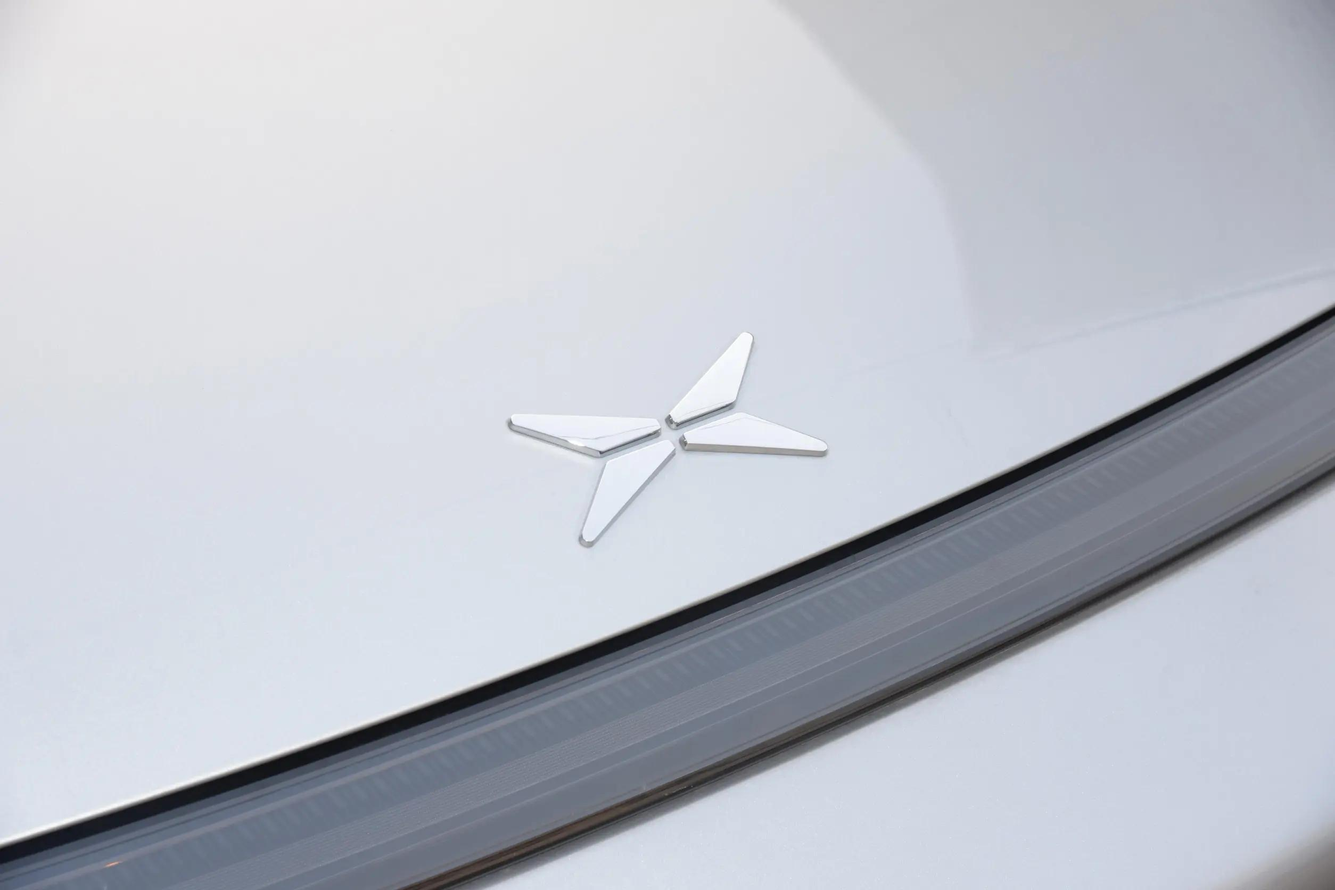XPeng Motors: (501, 328, 828, 550)
